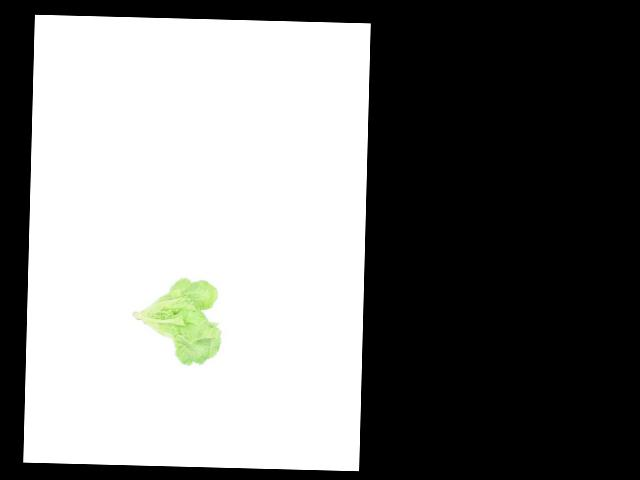lettuce: (110, 267, 235, 363)
